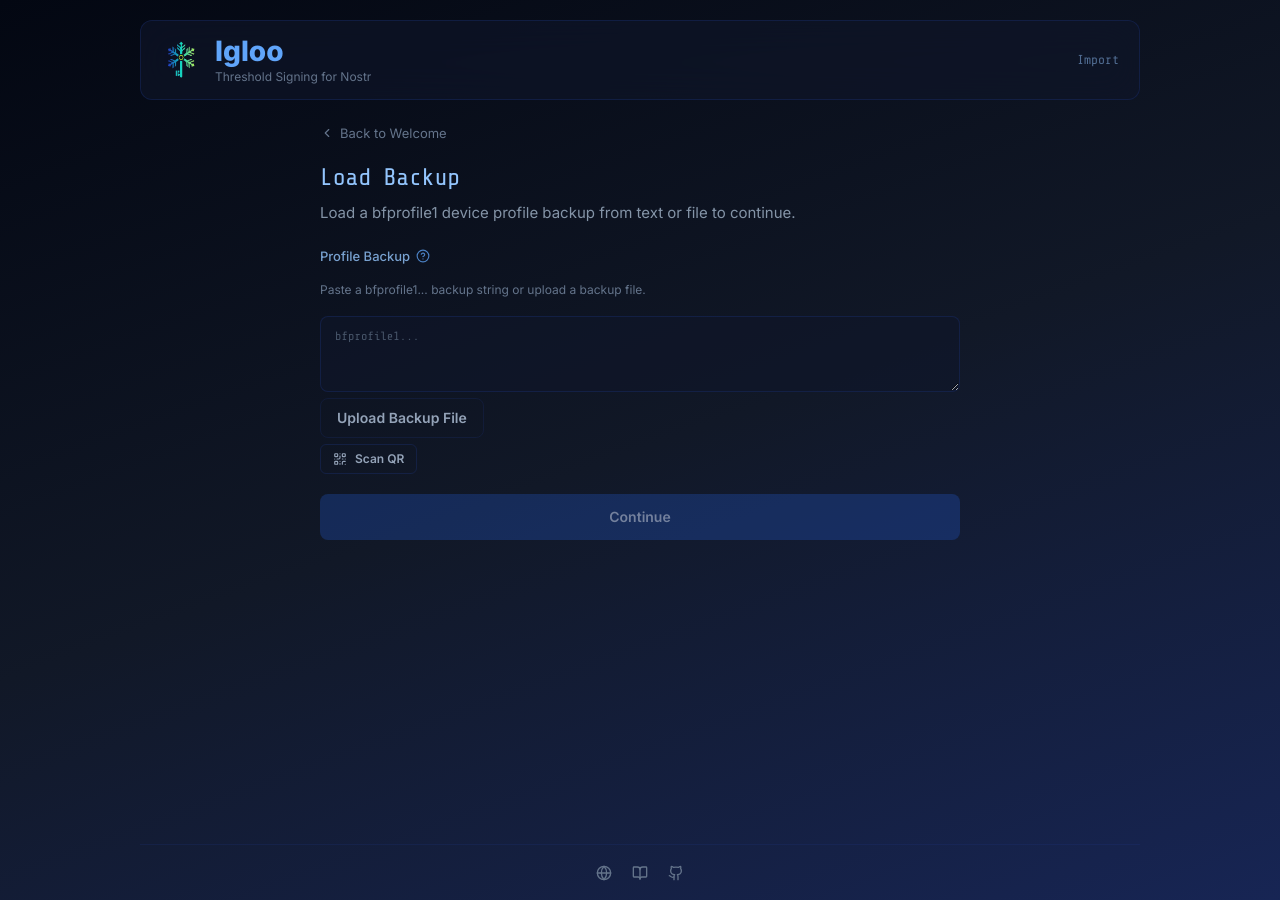
LoadBackupScreen › shows error feedback for invalid input
In the text box with placeholder "bfprofile1...": [640, 354] box [320,316,960,392], type "invalid-string"
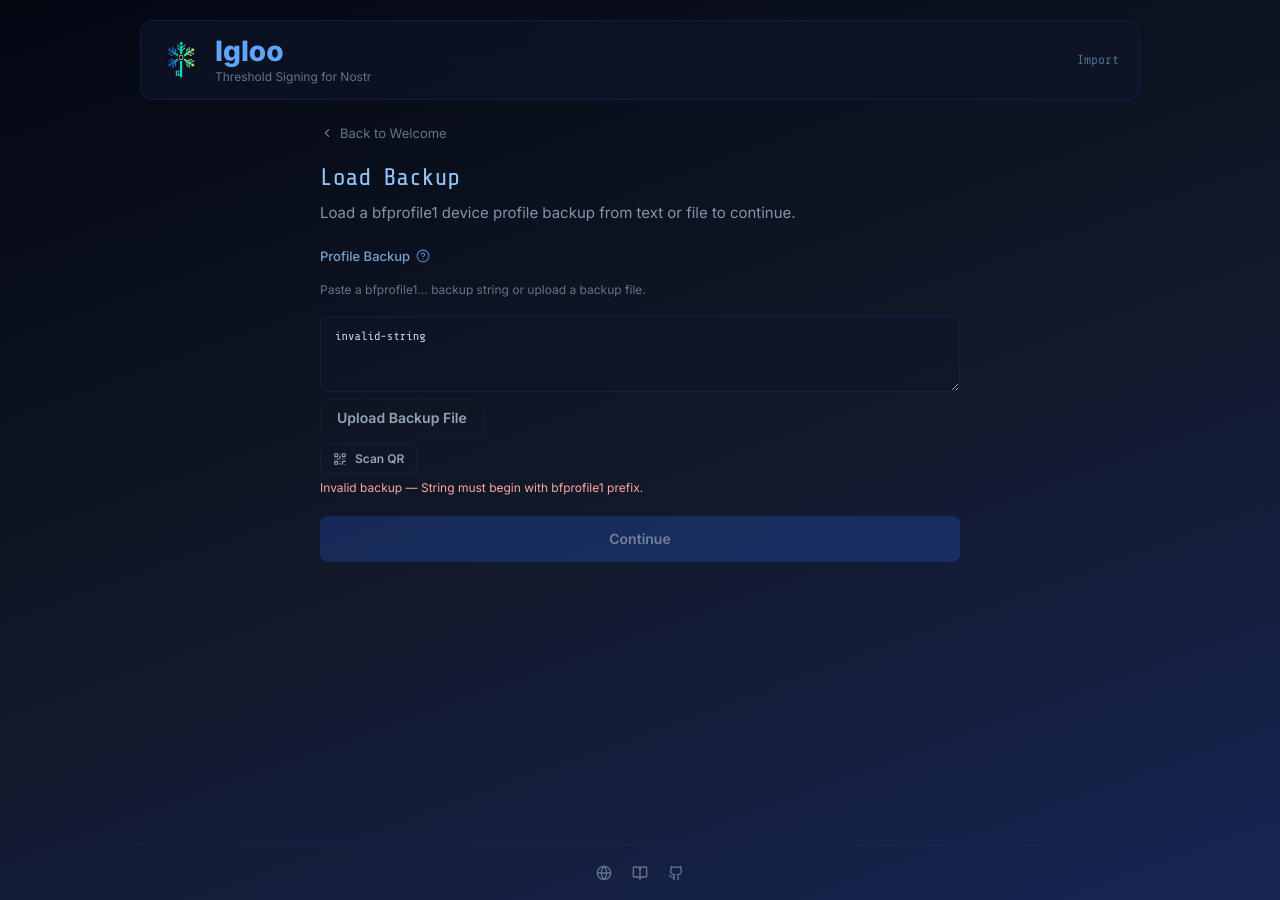
Expected: the text "Invalid backup — String must begin with bfprofile1 prefix." is shown, [320,480,643,495]
